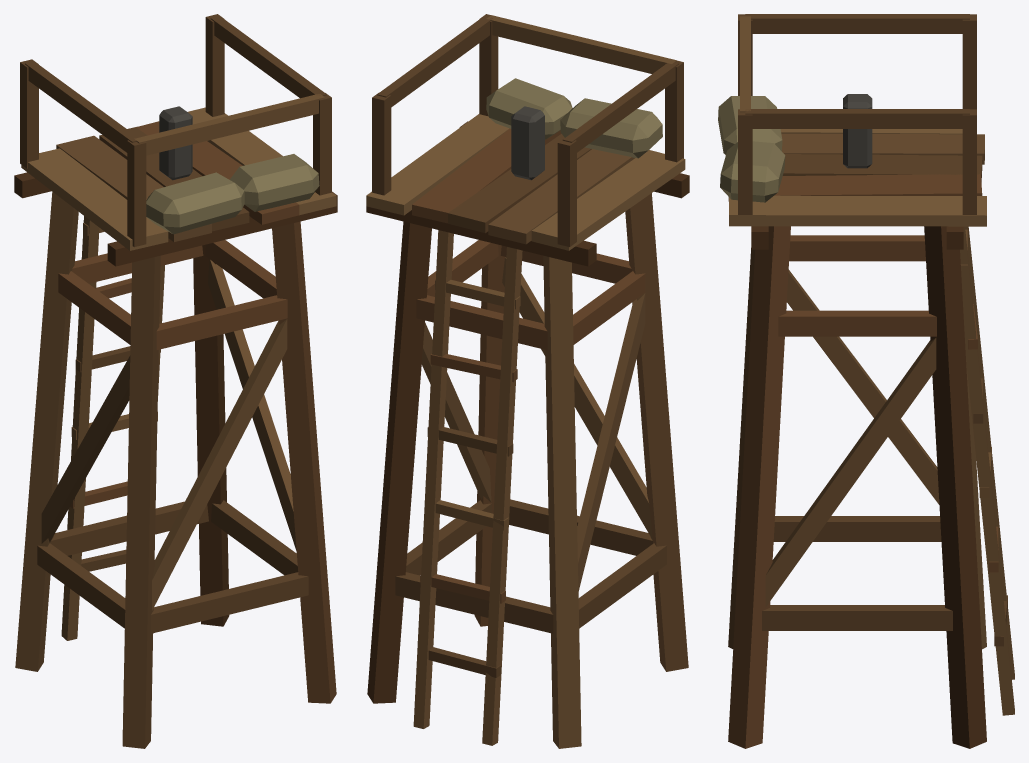
The model's file is torre_1.glb.
3 renders of one model, left to right at view 1: azimuth 30°, elevation 25°; view 2: azimuth 150°, elevation 25°; view 3: azimuth 270°, elevation 25°, orthographic. The views are drawn at different scales.
Parts seen in each view (by area): view 1: torre_1.001; view 2: torre_1.001; view 3: torre_1.001.
Boxes of the visible parts, box(x1,y1,x2,y2) form: torre_1.001: box(14, 14, 337, 748); torre_1.001: box(366, 14, 689, 748); torre_1.001: box(718, 14, 1014, 748).
Size of the model in its own units: 1.1 by 2.86 by 1.22.
